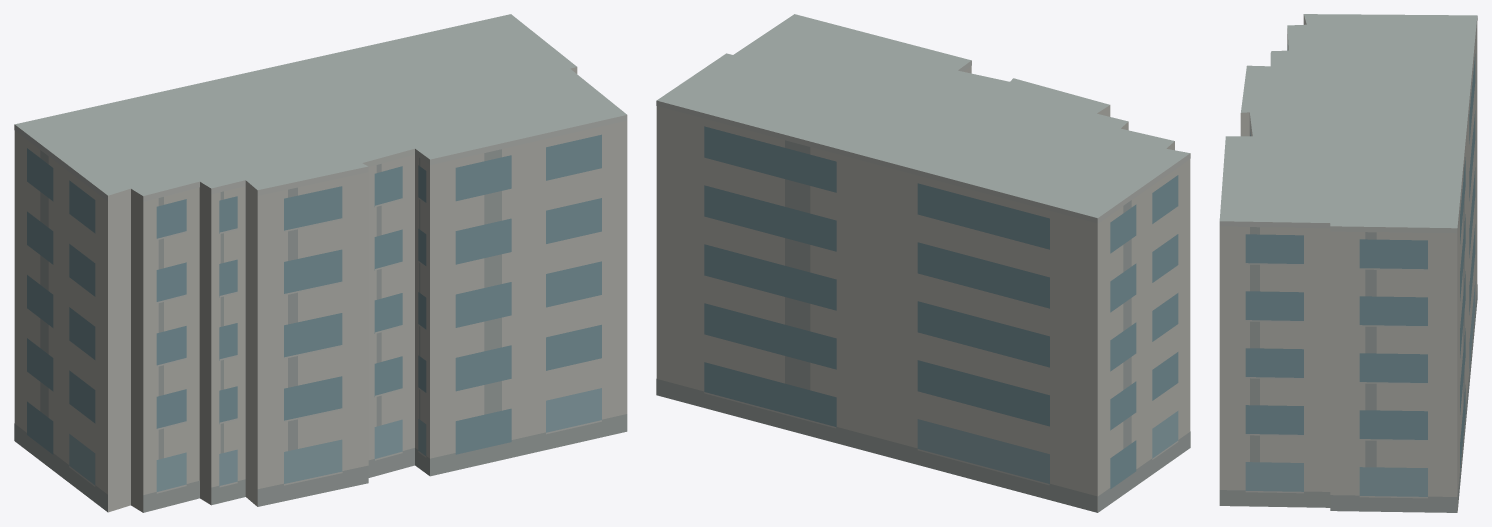
Rendered from survey-upis-32574495.glb.
3 views of the same model, side by side, from view 1: azimuth 30°, elevation 25°; view 2: azimuth 150°, elevation 25°; view 3: azimuth 270°, elevation 25° (orthographic). The views are drawn at different scales.
Visible parts, largest first — view 1: survey-upis-32574495.tmp; view 2: survey-upis-32574495.tmp; view 3: survey-upis-32574495.tmp.
Boxes of the visible parts, <box> form: survey-upis-32574495.tmp: <box>14,14,627,512</box>; survey-upis-32574495.tmp: <box>656,14,1190,512</box>; survey-upis-32574495.tmp: <box>1219,14,1477,512</box>.
Size of the model in its own units: 21.15 by 13.1 by 10.76.
